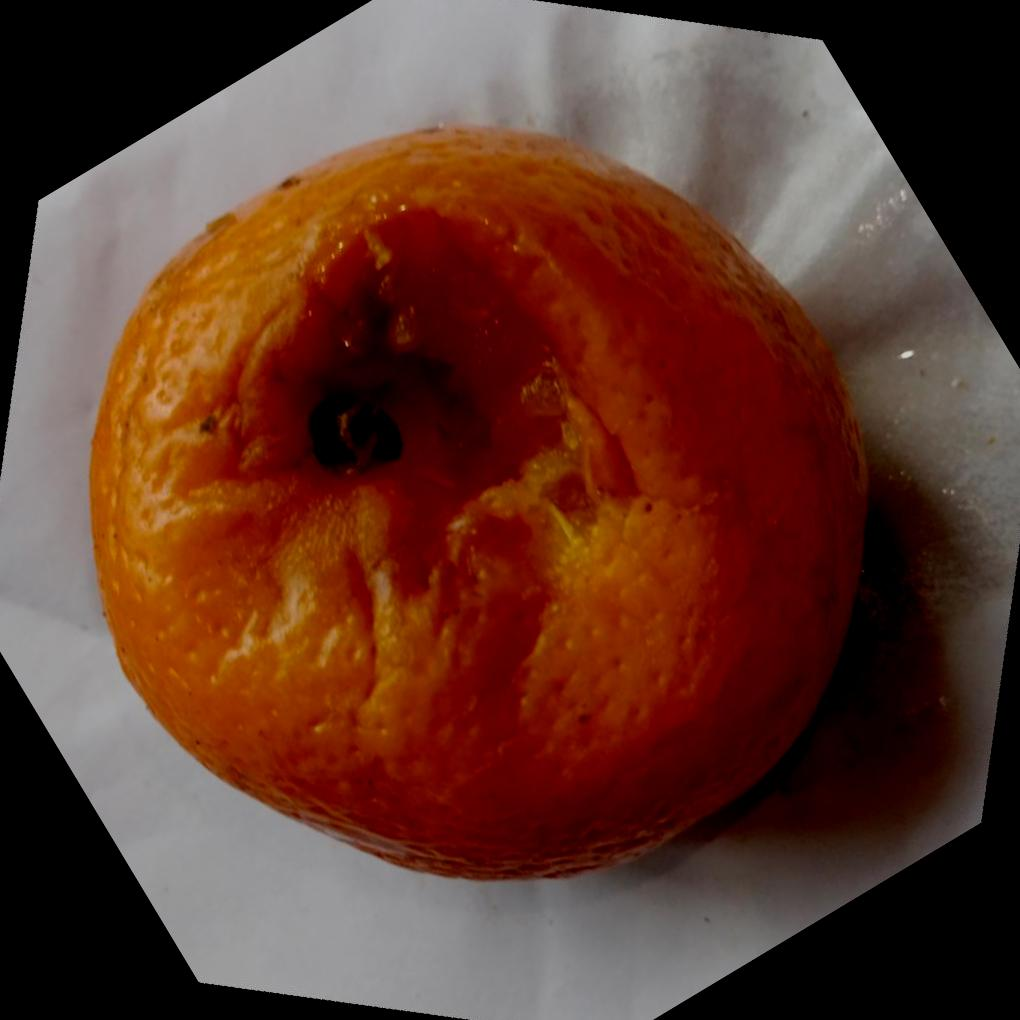FreshOrange: (88, 120, 875, 882)
